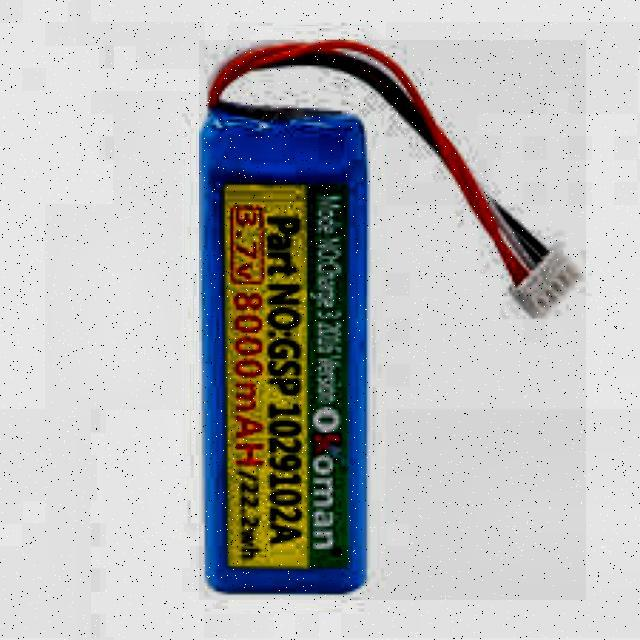B3: (184, 23, 582, 627)
